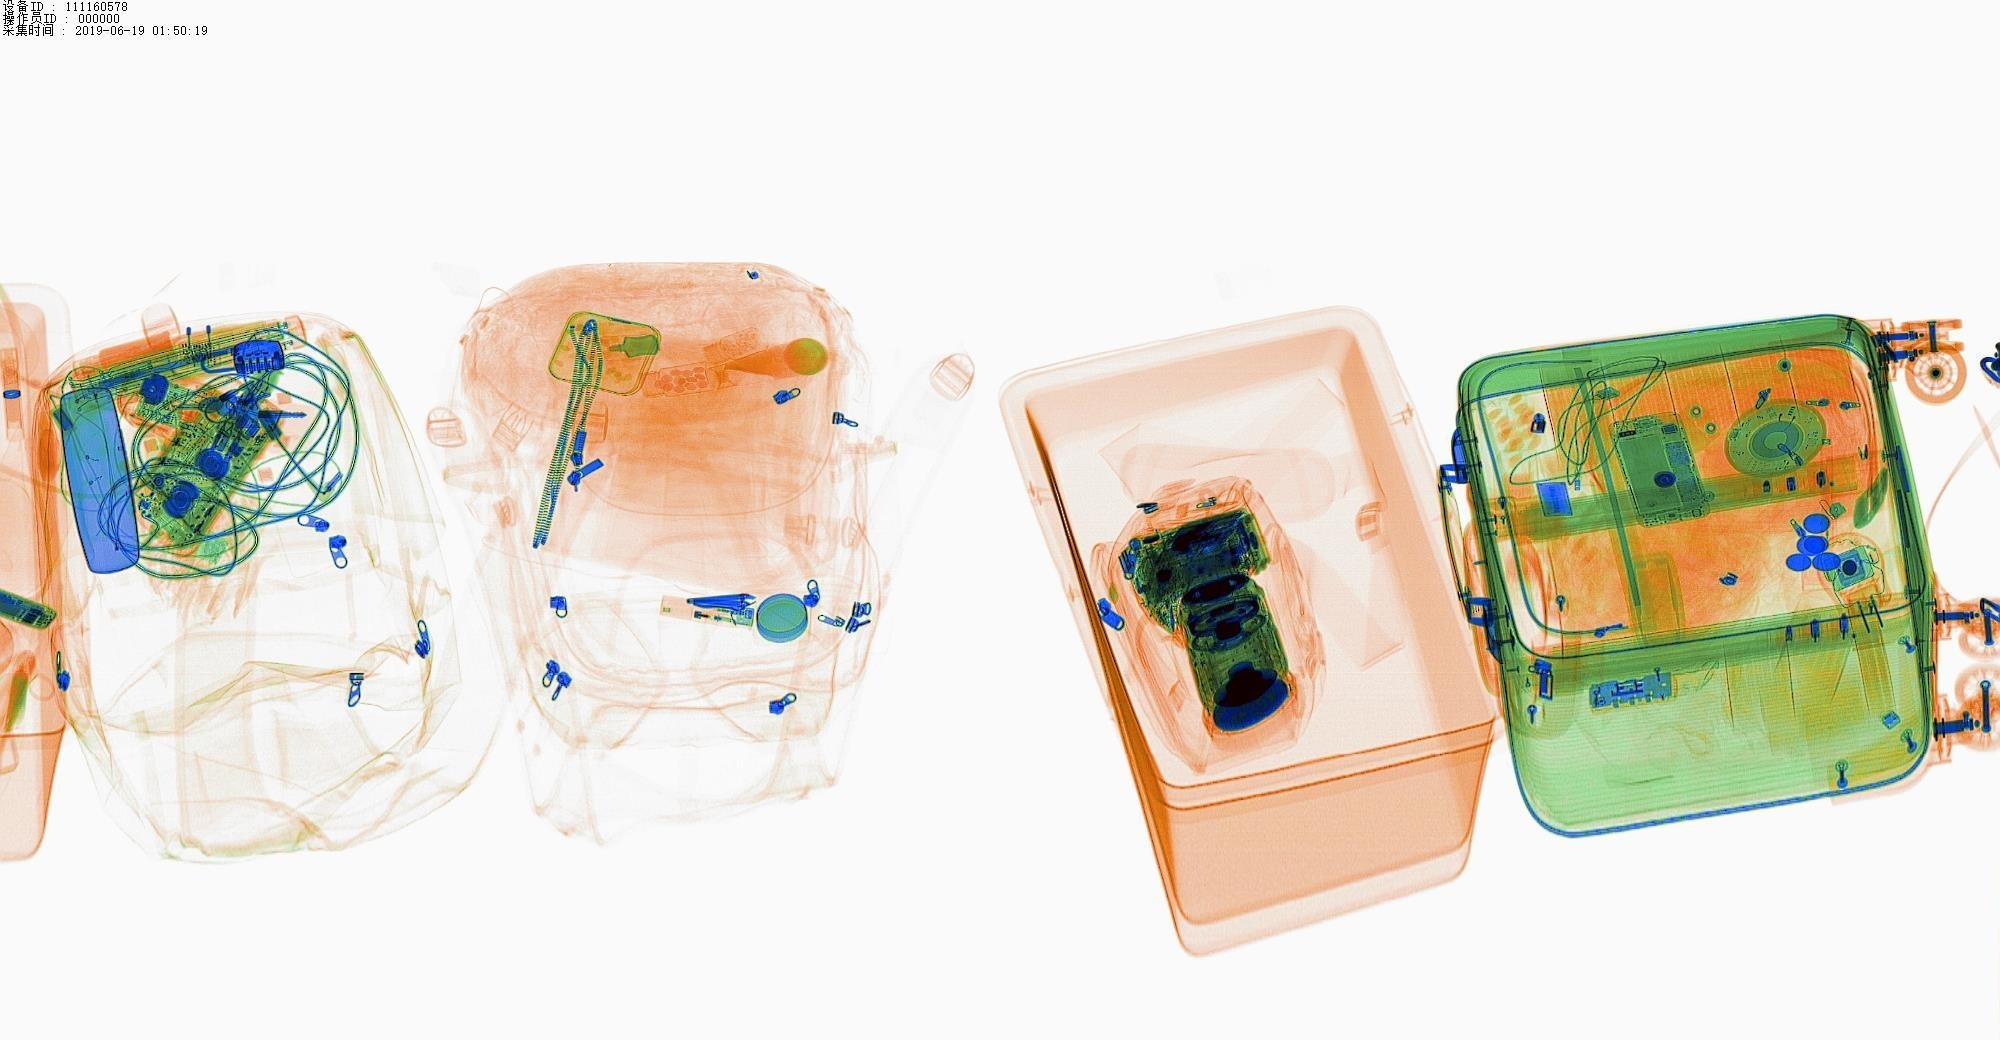NonmetallicFire: (644, 584, 780, 650)
